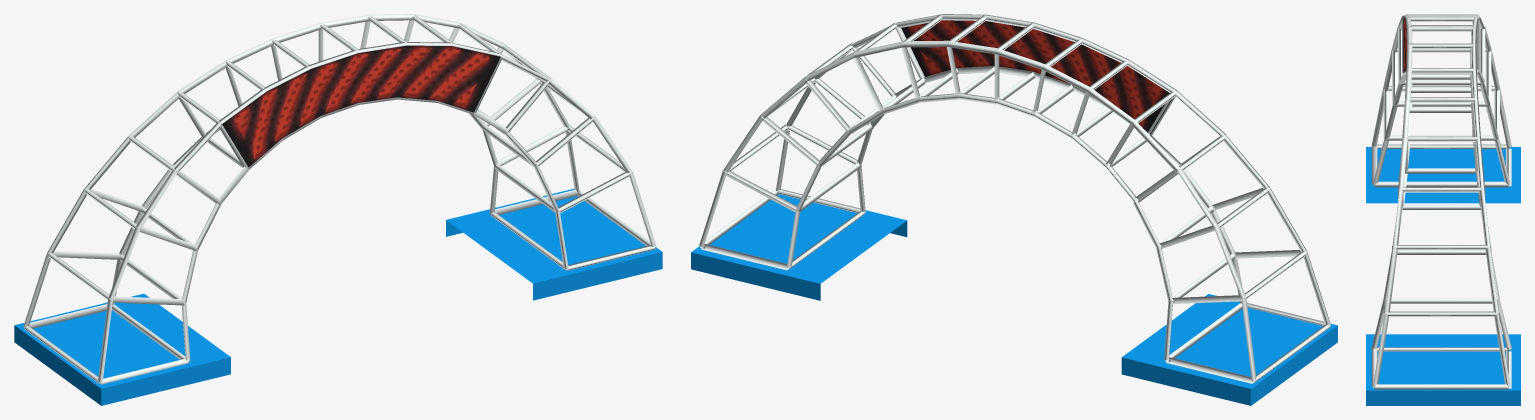
The model's file is Checkpoint_3.FBX.
3 renders of one model, left to right at view 1: azimuth 30°, elevation 25°; view 2: azimuth 150°, elevation 25°; view 3: azimuth 270°, elevation 25°, orthographic. The views are drawn at different scales.
Parts seen in each view (by area): view 1: Checkpoint_3; view 2: Checkpoint_3; view 3: Checkpoint_3.
Part boxes in pixels (<box>): Checkpoint_3: <box>14,14,662,405</box>; Checkpoint_3: <box>691,14,1337,405</box>; Checkpoint_3: <box>1366,14,1520,405</box>.
Size of the model in its own units: 35.95 by 16.56 by 9.66.
